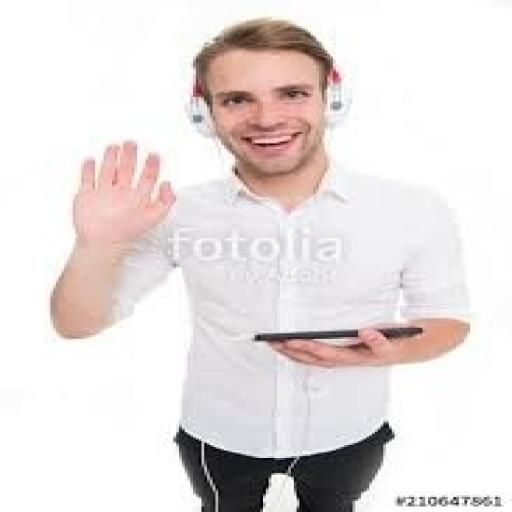listening_to_music: (44, 15, 476, 510)
